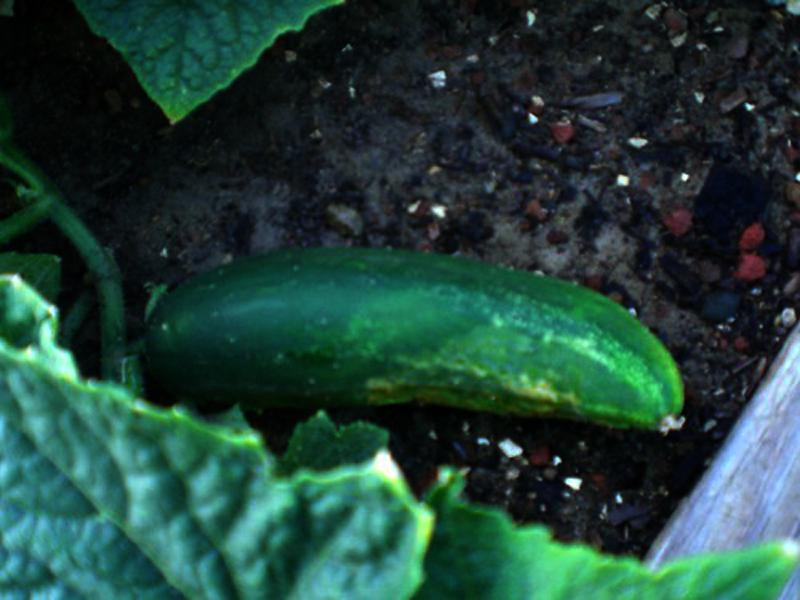Cucumber: (146, 248, 685, 434)
